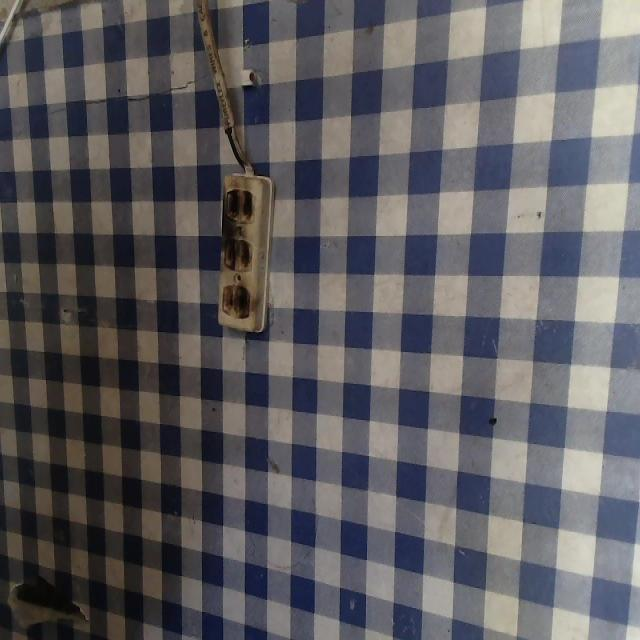-: (217, 176, 260, 232), (218, 227, 261, 277), (218, 273, 254, 323)
